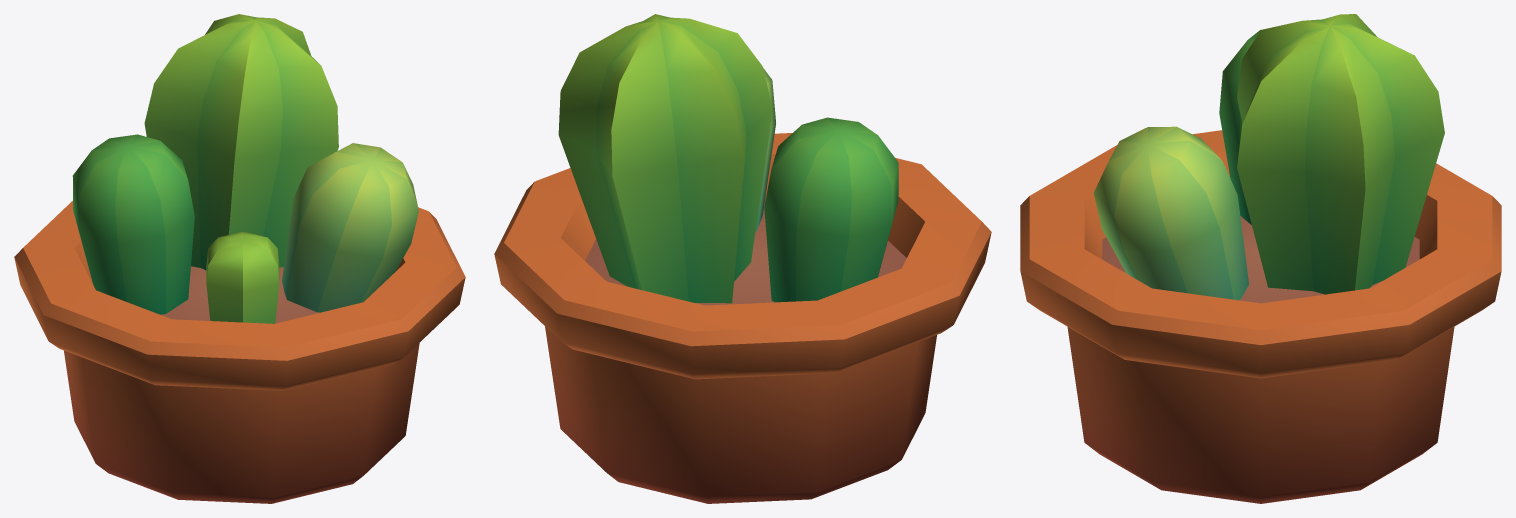
The model's file is cactus-medium-a.glb.
3 views of the same model, side by side, from view 1: azimuth 30°, elevation 25°; view 2: azimuth 150°, elevation 25°; view 3: azimuth 270°, elevation 25° (orthographic). The views are drawn at different scales.
Visible parts, largest first — view 1: cactus_medium_A; view 2: cactus_medium_A; view 3: cactus_medium_A.
Boxes of the visible parts, box(x1,y1,x2,y2) form: cactus_medium_A: box(14, 14, 465, 503); cactus_medium_A: box(494, 14, 991, 503); cactus_medium_A: box(1020, 14, 1501, 503).
Size of the model in its own units: 0.8799 by 0.8272 by 0.8368.
